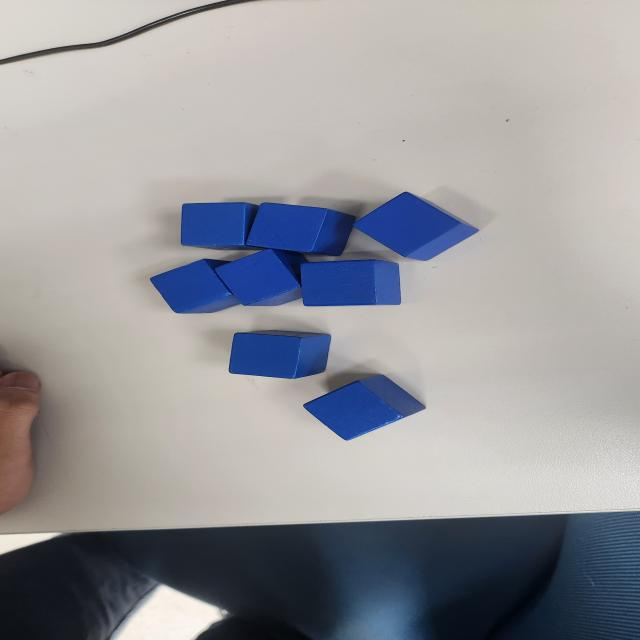blue: (352, 190, 480, 263), (302, 373, 428, 443), (244, 202, 358, 256), (215, 247, 310, 308), (227, 328, 333, 379), (148, 258, 243, 314), (300, 258, 402, 308), (179, 201, 263, 251)
